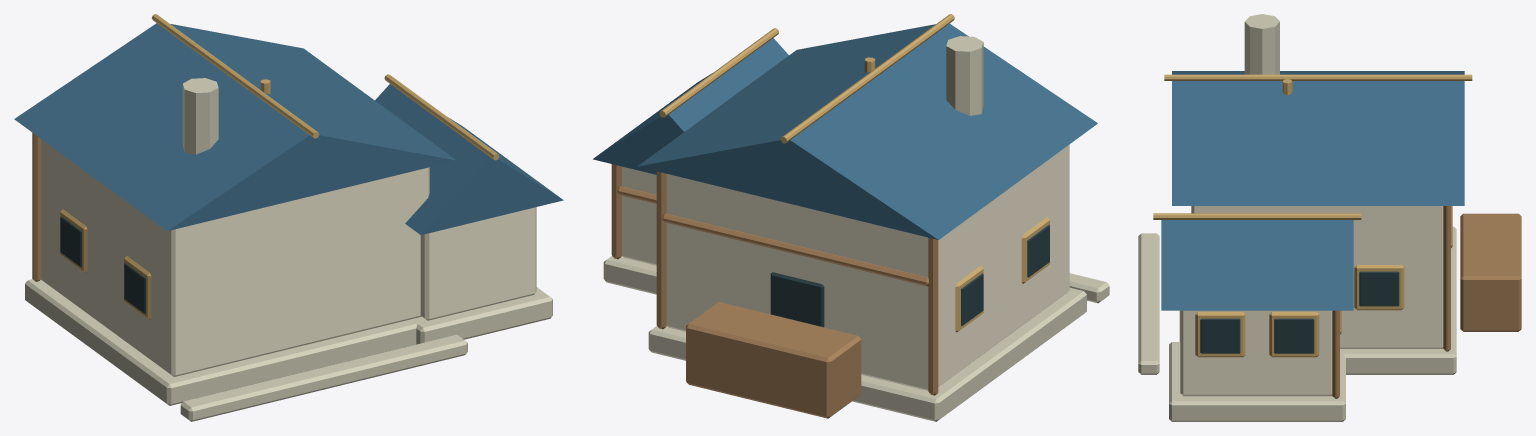
The model's file is level_12.glb.
3 renders of one model, left to right at view 1: azimuth 30°, elevation 25°; view 2: azimuth 150°, elevation 25°; view 3: azimuth 270°, elevation 25°, orthographic. The views are drawn at different scales.
Parts seen in each view (by area): view 1: workshop — level 12; view 2: workshop — level 12; view 3: workshop — level 12.
Part boxes in pixels (left/top/right/bottom): workshop — level 12: left=14, top=14, right=563, bottom=421; workshop — level 12: left=593, top=14, right=1109, bottom=421; workshop — level 12: left=1138, top=14, right=1521, bottom=421.
Size of the model in its own units: 5.6 by 3.72 by 4.98.
